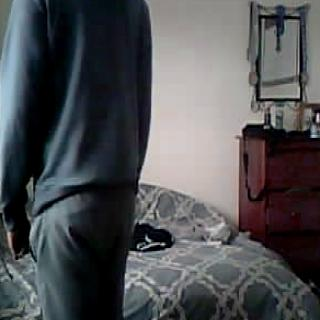Blue Hoodie: (0, 0, 156, 210)
Blue Sweatpants: (18, 191, 146, 320)
